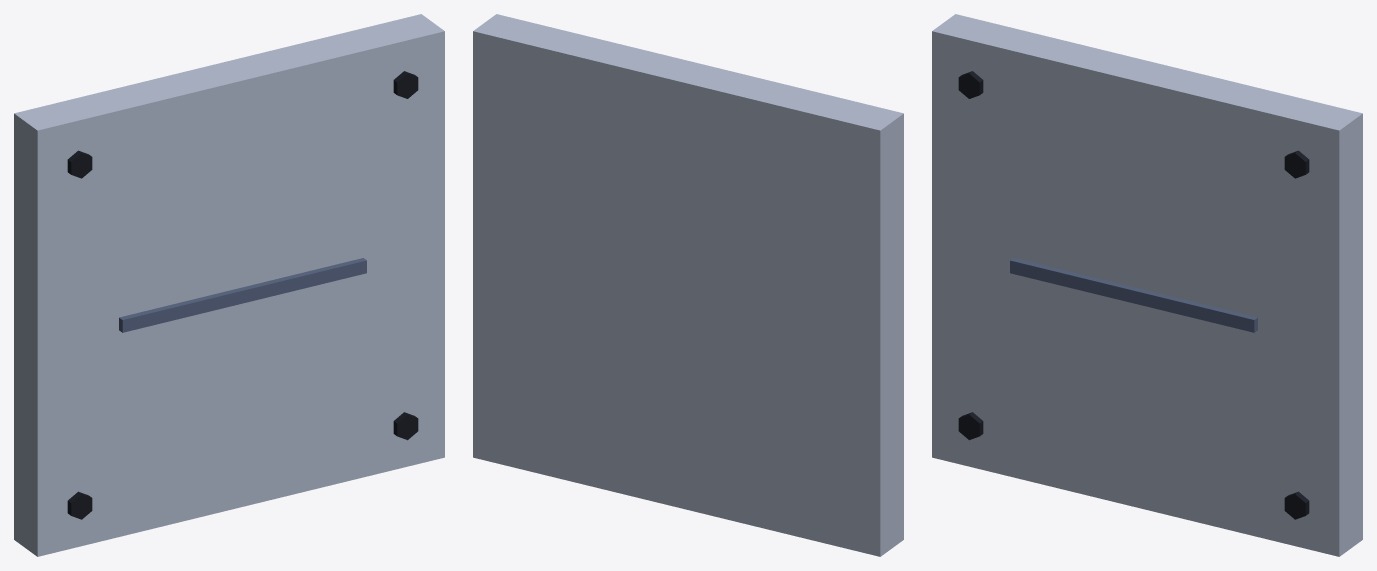
The model's file is hull_panel.obj.
The picture shows the model from 3 angles, left to right: view 1: azimuth 30°, elevation 25°; view 2: azimuth 150°, elevation 25°; view 3: azimuth 330°, elevation 25°; orthographic projection.
Parts seen in each view (by area): view 1: hull_panel; view 2: hull_panel; view 3: hull_panel.
Part boxes in pixels (bbox=[...]): hull_panel: bbox=[14, 14, 444, 556]; hull_panel: bbox=[473, 14, 903, 556]; hull_panel: bbox=[932, 14, 1362, 556].
Bounding box in the file's own units: 2 × 2 × 0.23.
